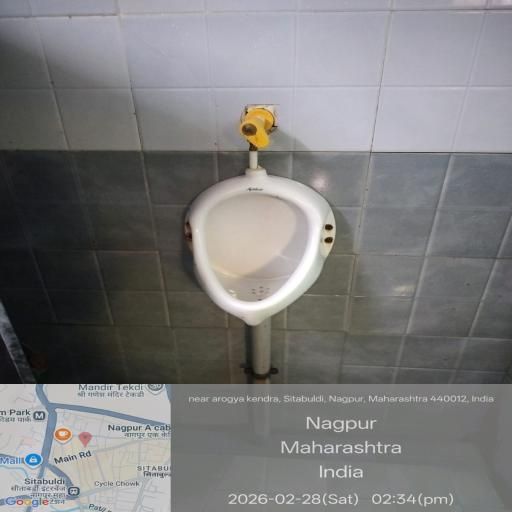clean_floor: (20, 4, 233, 512), (239, 1, 512, 140)
clean_urinal: (210, 139, 371, 350)
